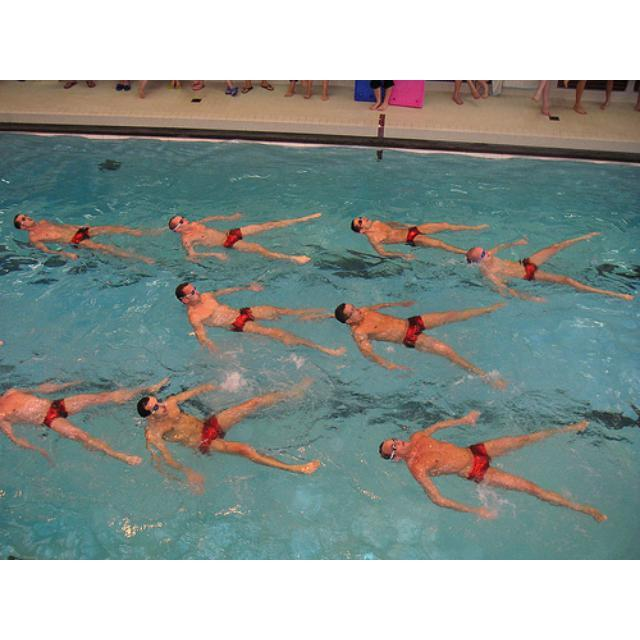human: (376, 406, 610, 531), (138, 375, 322, 478), (1, 369, 186, 469), (337, 295, 516, 396), (176, 273, 353, 357), (465, 244, 637, 304), (14, 209, 154, 269), (171, 212, 319, 267), (351, 211, 490, 266)
